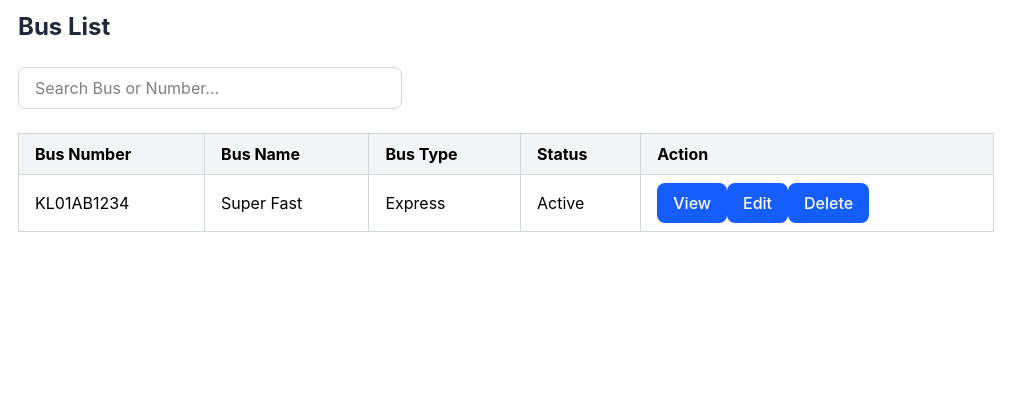
Test: BusList - step 1 › should show no buses when search does not match
Expected: the text "KL01AB1234" is shown, top-left (18, 174), bottom-right (205, 232)
Type "XYZ" into the field at (210, 88), box top-left (18, 67), bottom-right (402, 109)
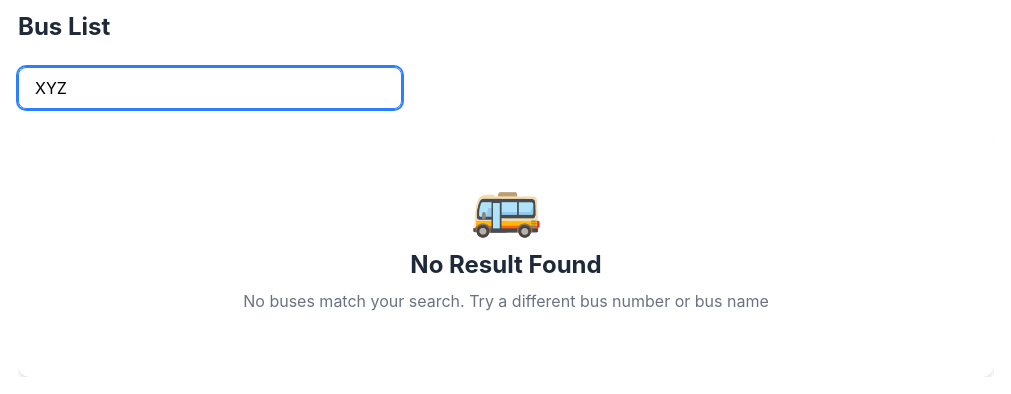
Now the text "KL01AB1234" is gone
